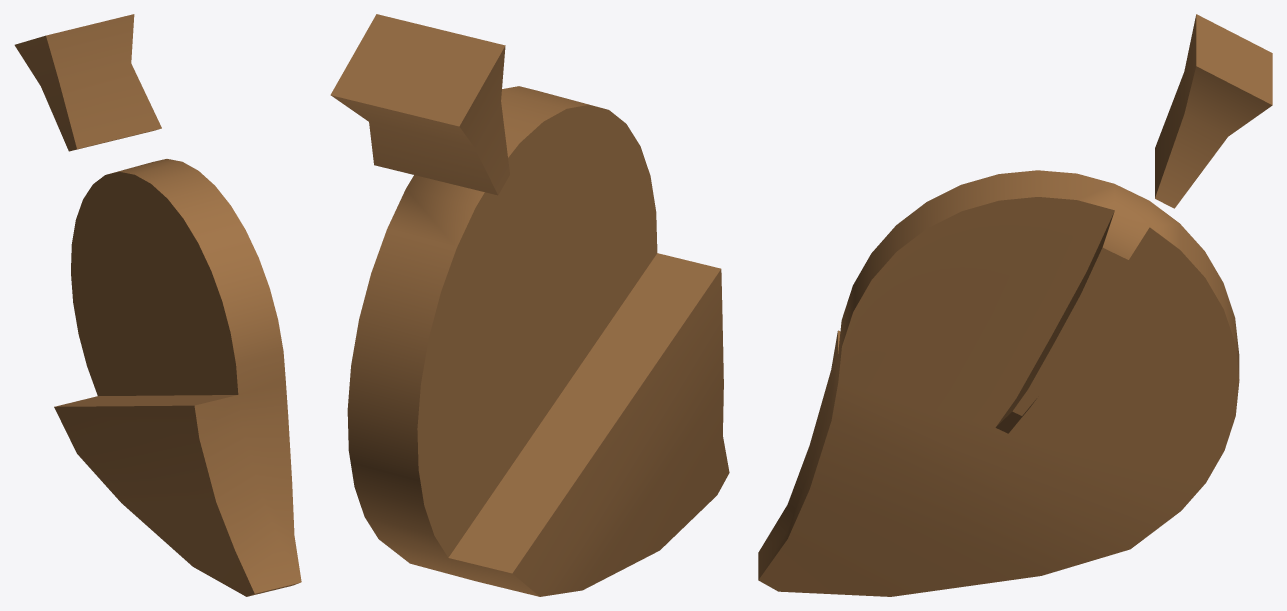
Rendered from AUTUMN(Icon).fbx.
The picture shows the model from 3 angles, left to right: view 1: azimuth 30°, elevation 25°; view 2: azimuth 150°, elevation 25°; view 3: azimuth 270°, elevation 25°; orthographic projection. The views are drawn at different scales.
Parts seen in each view (by area): view 1: Cylinder.001, Cube.006; view 2: Cylinder.001, Cube.006; view 3: Cylinder.001, Cube.006.
Part boxes in pixels (left/top/right/bottom): Cylinder.001: left=54, top=159, right=301, bottom=596; Cube.006: left=14, top=14, right=161, bottom=151; Cylinder.001: left=347, top=86, right=729, bottom=596; Cube.006: left=330, top=14, right=509, bottom=195; Cylinder.001: left=758, top=170, right=1239, bottom=596; Cube.006: left=1155, top=14, right=1272, bottom=208.
Bounding box in the file's own units: 17.46 × 71.14 × 61.85.
